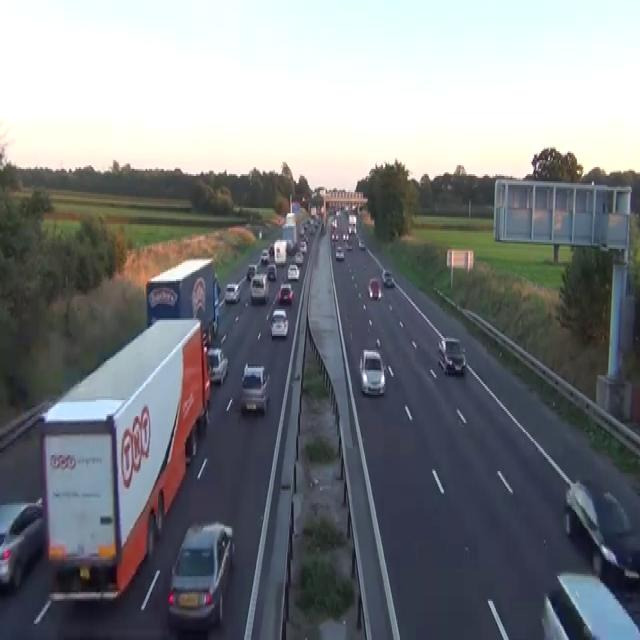Car: (563, 478, 639, 583), (167, 521, 234, 631), (540, 571, 639, 638), (0, 498, 44, 590), (240, 363, 270, 414), (540, 594, 570, 638), (359, 348, 385, 396), (437, 336, 466, 375), (207, 347, 228, 384), (249, 274, 268, 304), (270, 308, 288, 338), (184, 423, 197, 464), (278, 283, 294, 304), (367, 277, 381, 299), (224, 283, 240, 302), (381, 268, 393, 286), (213, 274, 220, 304), (246, 263, 257, 281), (287, 263, 299, 279), (267, 263, 277, 281), (202, 327, 210, 347), (260, 247, 269, 263), (286, 238, 294, 254), (335, 246, 344, 260), (294, 251, 303, 263), (331, 229, 338, 242), (348, 222, 355, 235), (348, 213, 356, 224), (299, 240, 306, 252), (330, 217, 337, 229), (232, 204, 241, 213), (358, 238, 365, 249), (342, 231, 349, 242), (268, 244, 274, 256), (313, 217, 320, 227), (386, 278, 394, 286), (299, 226, 304, 236), (300, 196, 306, 204), (309, 226, 315, 234), (346, 242, 352, 249), (258, 230, 262, 238)
Truck: (38, 315, 211, 601), (145, 256, 219, 347), (282, 212, 297, 252), (273, 238, 287, 265), (348, 213, 356, 233)
